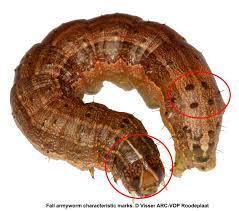fallarmy_worm: (8, 8, 230, 200)
